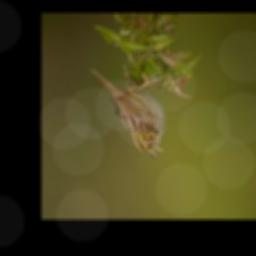Sparrow: (88, 67, 164, 161)
